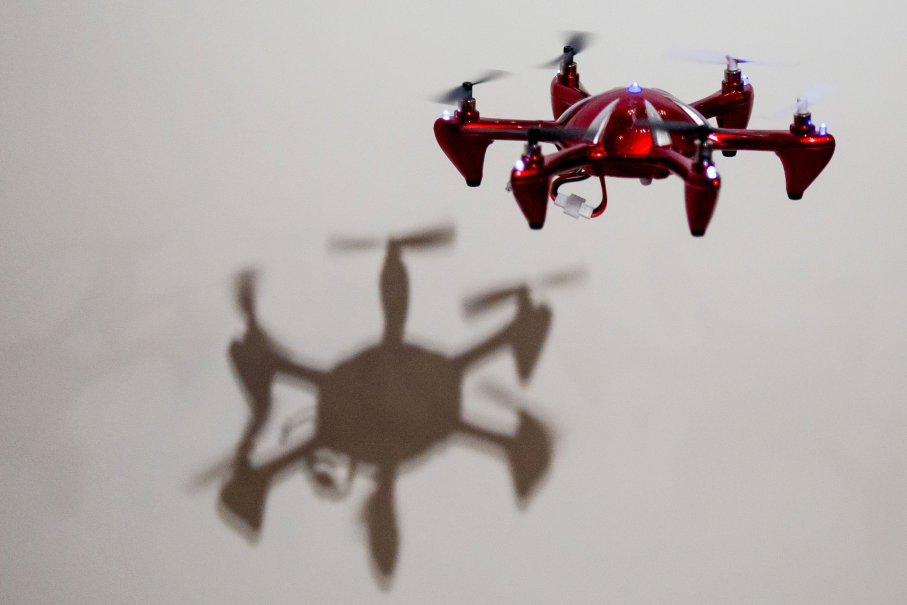drone: (419, 27, 846, 241)
